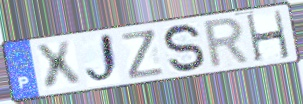H: (244, 9, 293, 64)
J: (84, 31, 123, 88)
R: (202, 15, 253, 71)
S: (161, 22, 208, 76)
X: (32, 39, 85, 93)
Z: (119, 27, 167, 81)
